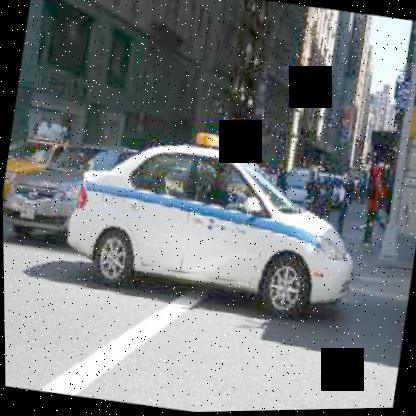emergency: (49, 104, 376, 347)
